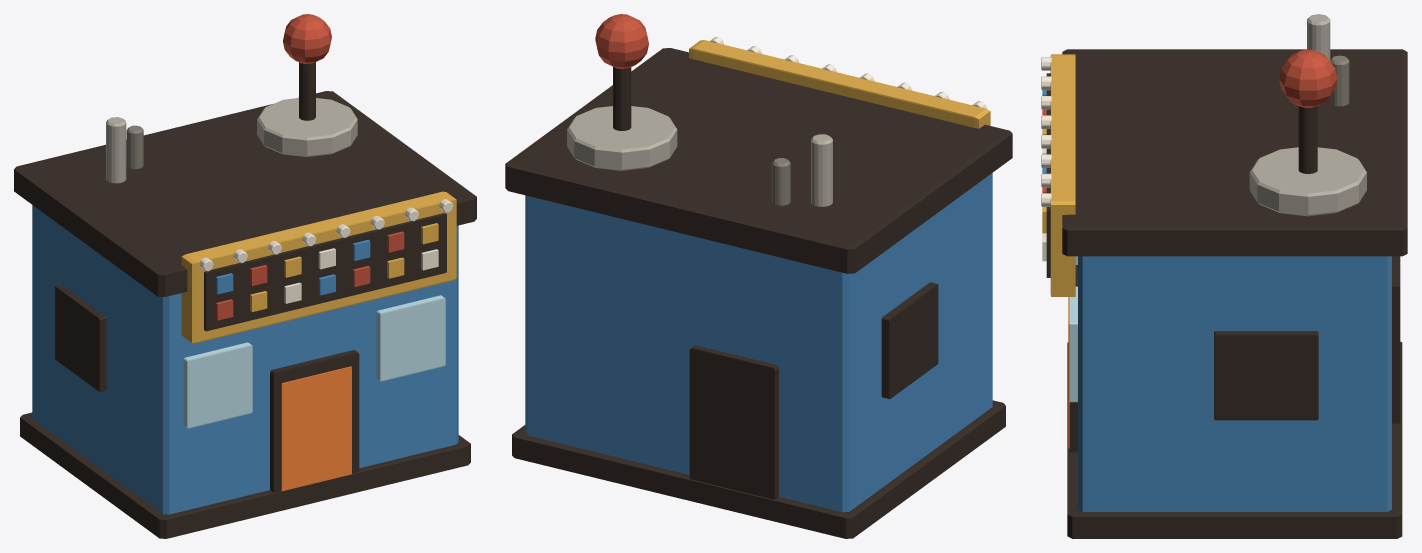
File: arcade.glb
3 renders of one model, left to right at view 1: azimuth 30°, elevation 25°; view 2: azimuth 150°, elevation 25°; view 3: azimuth 270°, elevation 25°, orthographic. The views are drawn at different scales.
Visible parts, largest first — view 1: a_walls, a_roof, a_base, a_marq_face, a_marquee, a_door_glow, a_win1, a_win2, a_joy_base, a_sw1_f, a_door, a_joy_ball (+3 smaller); view 2: a_walls, a_roof, a_base, a_backdoor, a_marquee, a_joy_base, a_sw1_f, a_joy_ball, a_pipe1, a_joy_stick, a_pipe2; view 3: a_walls, a_roof, a_base, a_sw2_f, a_joy_base, a_marquee, a_joy_ball, a_backdoor, a_joy_stick, a_win2, a_pipe1, a_pipe2 (+2 smaller).
Part boxes in pixels (x1,y1,x2,y2): a_walls: (32,205,458,514); a_roof: (14,91,476,296); a_base: (20,412,470,538); a_marq_face: (204,213,446,331); a_marquee: (181,191,456,343); a_door_glow: (281,366,351,491); a_win1: (183,342,252,428); a_win2: (376,295,445,381); a_joy_base: (257,98,357,156); a_sw1_f: (55,285,106,391); a_door: (270,349,359,492); a_joy_ball: (283,14,331,64); a_walls: (525,173,992,512); a_roof: (505,48,1012,273); a_base: (512,400,1005,538); a_backdoor: (689,345,778,499); a_marquee: (689,40,990,128); a_joy_base: (567,106,677,170); a_sw1_f: (881,282,938,399); a_joy_ball: (595,14,648,68); a_pipe1: (811,134,832,206); a_joy_stick: (613,67,631,130); a_pipe2: (772,158,790,205); a_walls: (1078,256,1391,511); a_roof: (1062,49,1407,256); a_base: (1067,341,1402,538); a_sw2_f: (1214,331,1318,420); a_joy_base: (1249,147,1366,216); a_marquee: (1050,54,1075,296); a_joy_ball: (1279,49,1337,107); a_backdoor: (1392,256,1400,423); a_joy_stick: (1298,106,1317,173); a_win2: (1069,286,1077,402); a_pipe1: (1307,14,1330,61); a_pipe2: (1330,55,1349,106).
Bounding box in the file's own units: 2.05 × 2.38 × 1.75.
